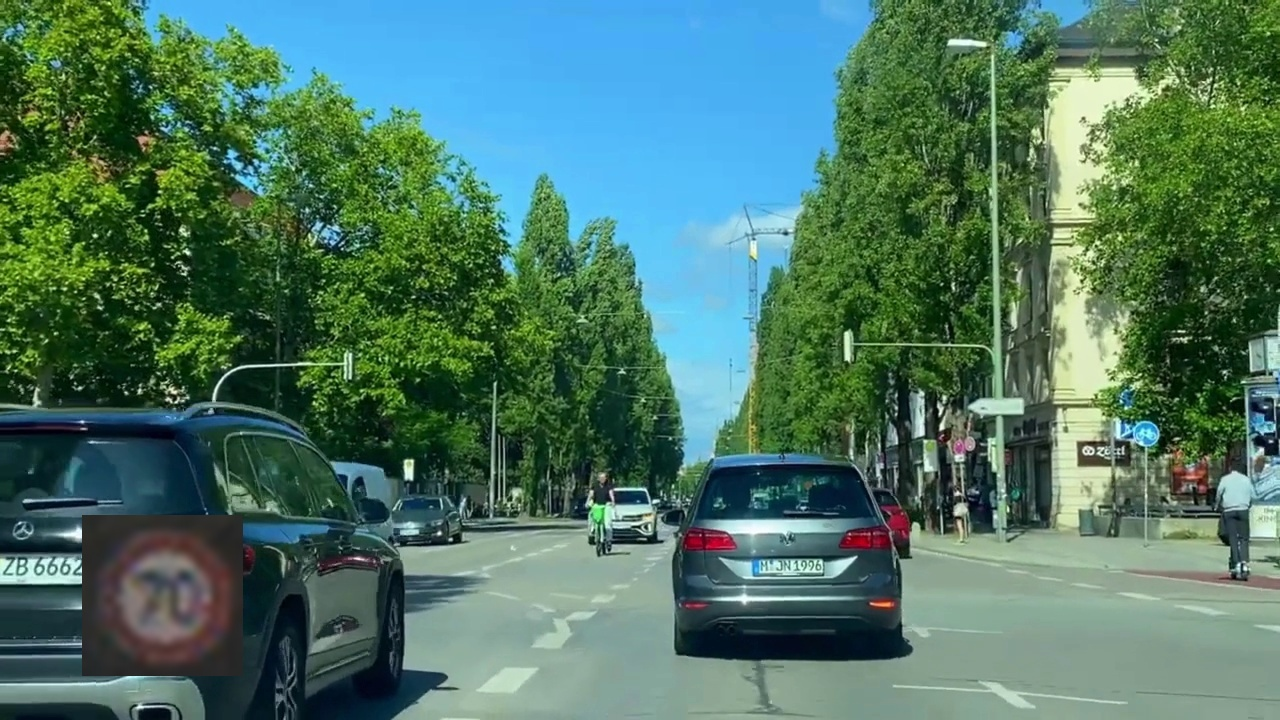Speed 70: (82, 515, 243, 676)
